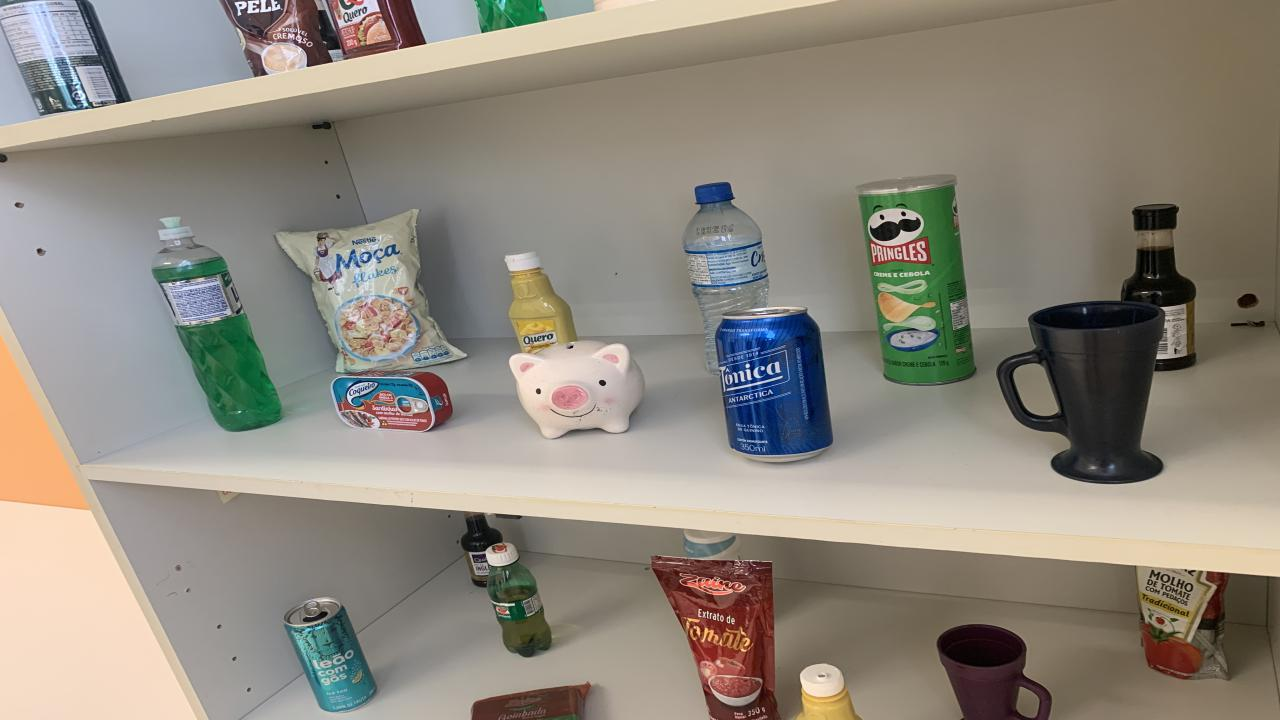Cleaner-Cleanup_Items: (682, 529, 740, 561)
Coffee-Pantry_Items: (220, 0, 332, 75)
Detergent-Cleanup_Items: (152, 218, 282, 431), (475, 0, 548, 32)
English_Sauce-Pantry_Items: (1120, 204, 1195, 371), (460, 512, 502, 587)
Flakes-Snacks: (275, 210, 465, 373)
Guarana-Drinks: (485, 542, 552, 656)
Guava-Snacks: (472, 682, 590, 720)
Ketchup-Pantry_Items: (325, 0, 425, 58), (325, 0, 425, 58)
Mustard-Pantry_Items: (505, 251, 578, 352), (798, 664, 860, 720)
Pig_Safe-Miscellaneous: (510, 341, 645, 439)
Pringles-Snacks: (860, 176, 975, 384)
Tea-Drinks: (285, 596, 378, 712)
Tomato_Sauce-Pantry_Items: (652, 557, 780, 720), (1138, 566, 1230, 679)
Tonic-Drinks: (715, 308, 832, 461)
Tuna_Can-Pantry_Items: (330, 371, 452, 431)
Water_Bottle-Drinks: (682, 184, 770, 373)
